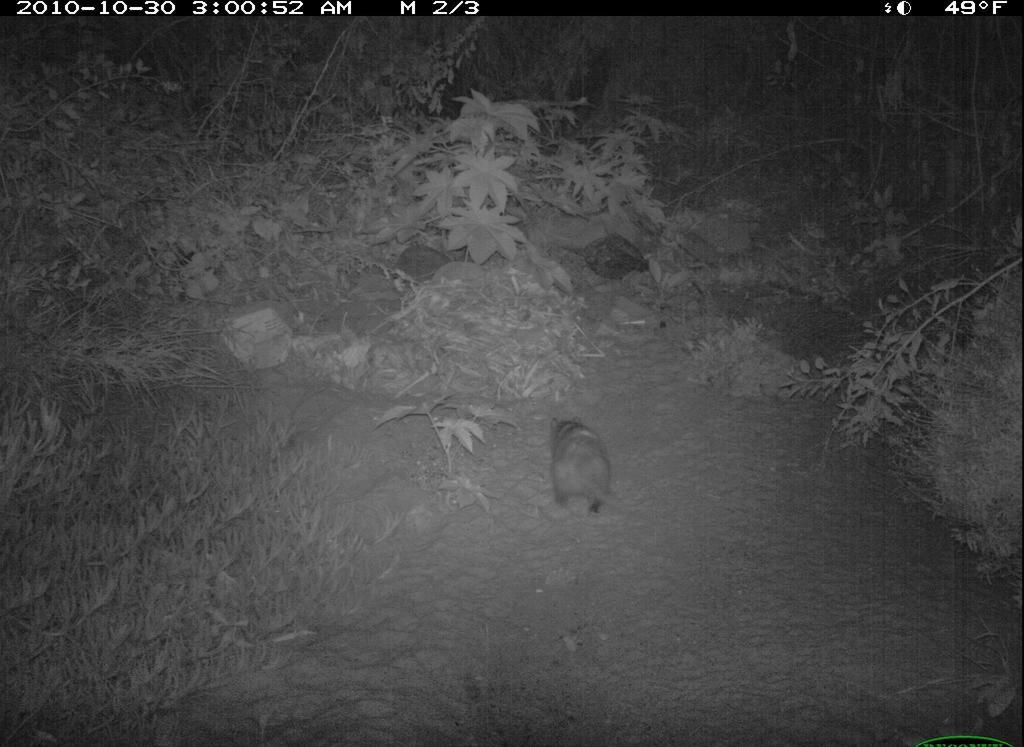opossum: (541, 408, 623, 527)
